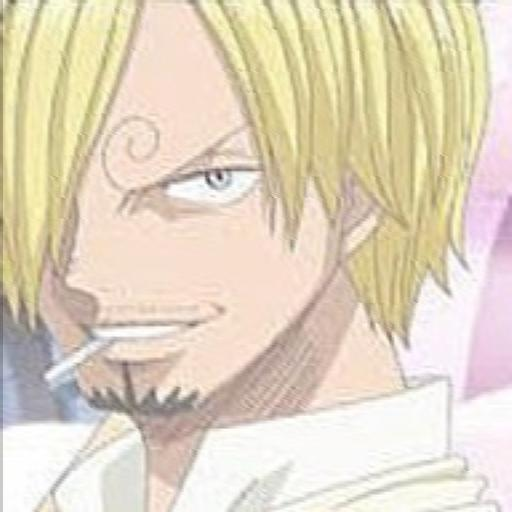sanji: (5, 2, 502, 506)
